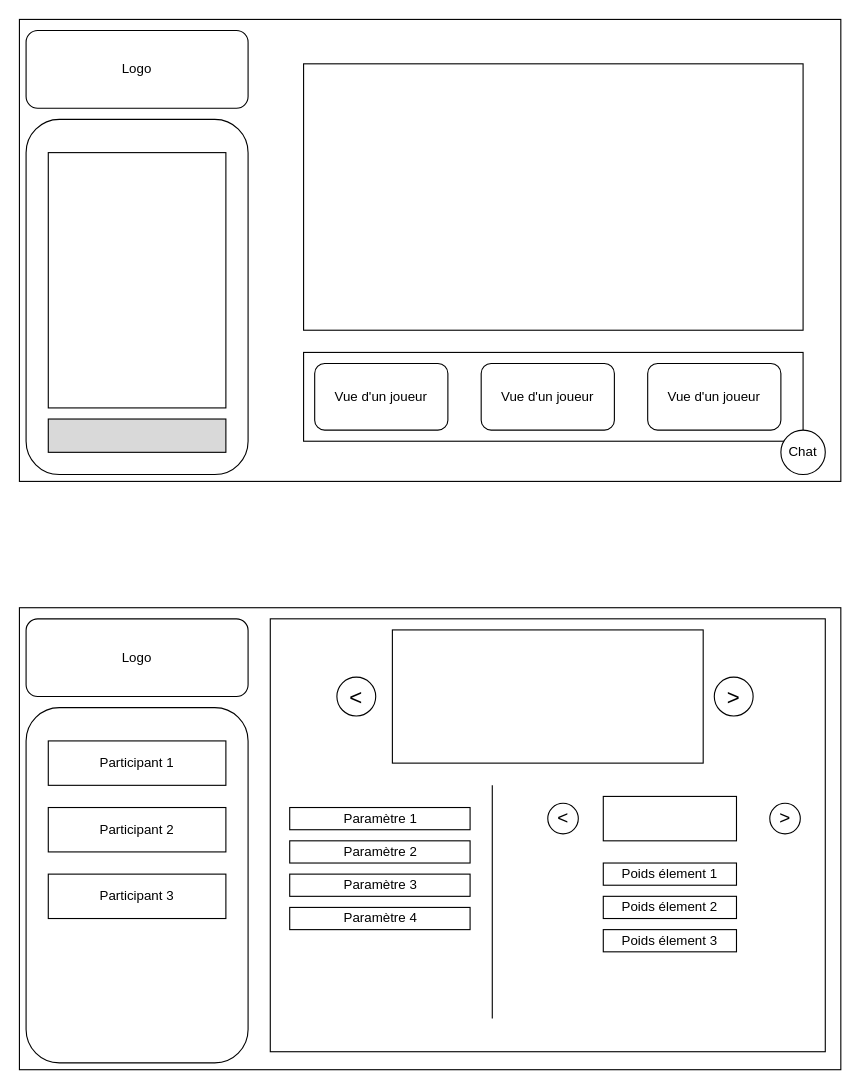
Image size: 860x1090. Some labels were removed from this diagram. Here are the shapes that lost their labels. From the top down, the centre of each, then its label:
At point (552, 196): "Vue principale".
At point (136, 280): "Champ de prises de commentaire".
At point (136, 435): "Sauvegarde du commentaire".
At point (547, 696): "Image et nom du scénario".
At point (669, 818): "Énigme".
